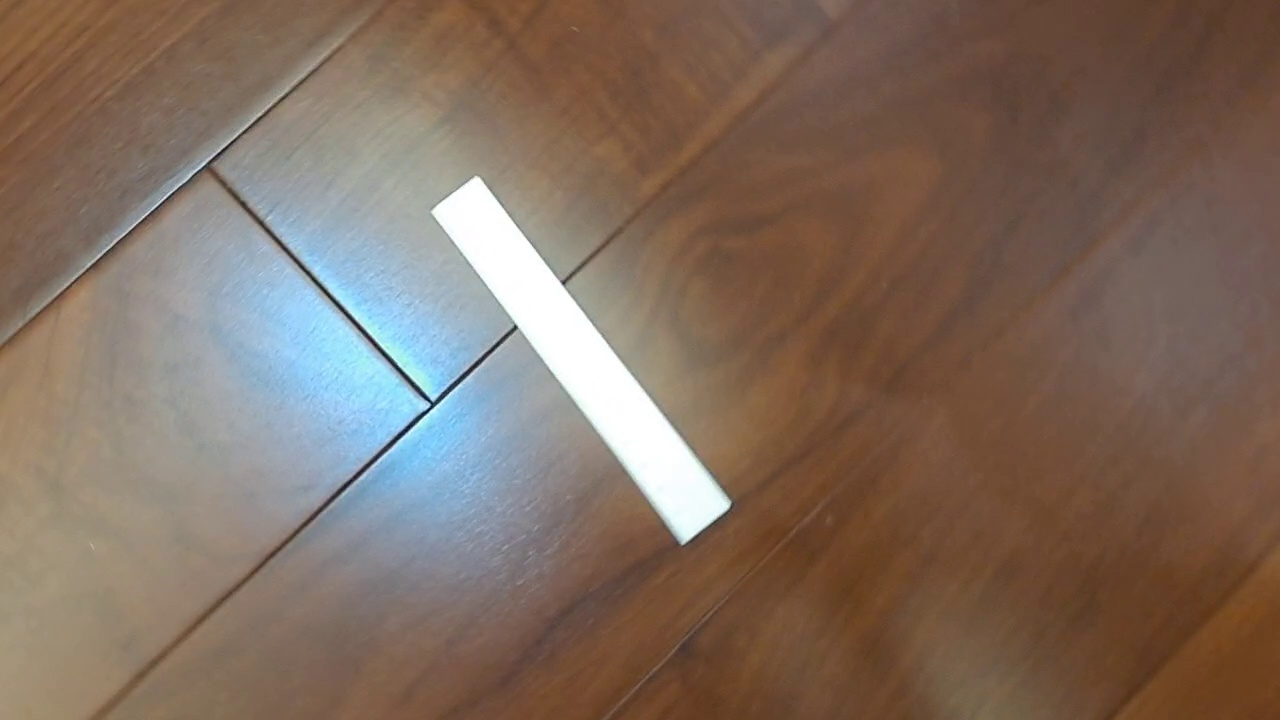ruler: (428, 173, 734, 548)
